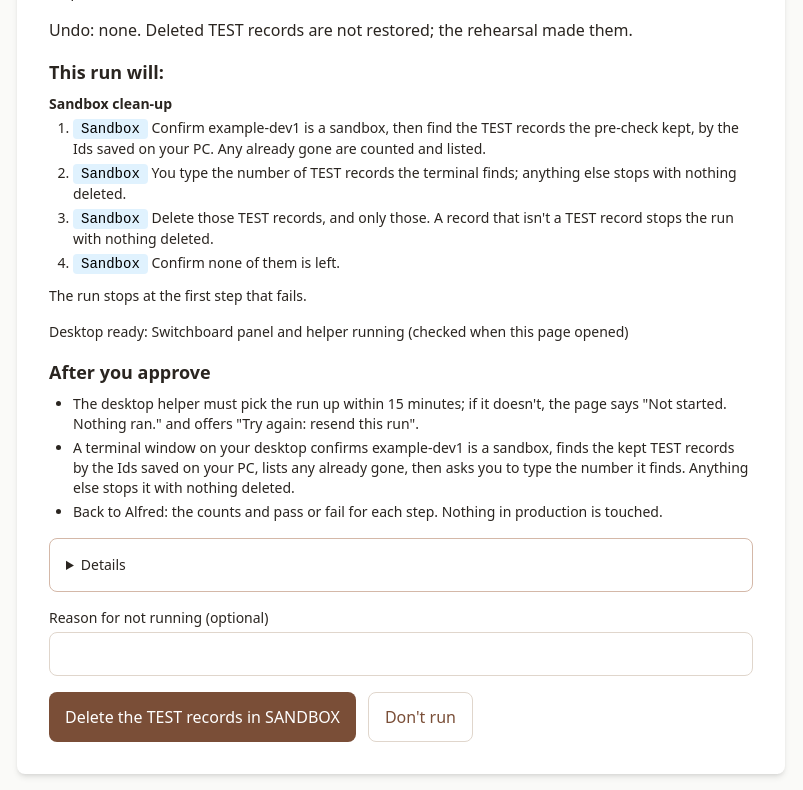
Test case: a pretend page › s34: a pretend delete page: marked pretend, its kind run, and the SIMULATION wake line at Approve
(page scrolled)
Check: the text with test id "run-desktop" does not show "Checking", box [49,322,628,341]
Step 1. Click the button with test id "run-approve" → [202, 717], box [49,692,356,742]
(page scrolled)
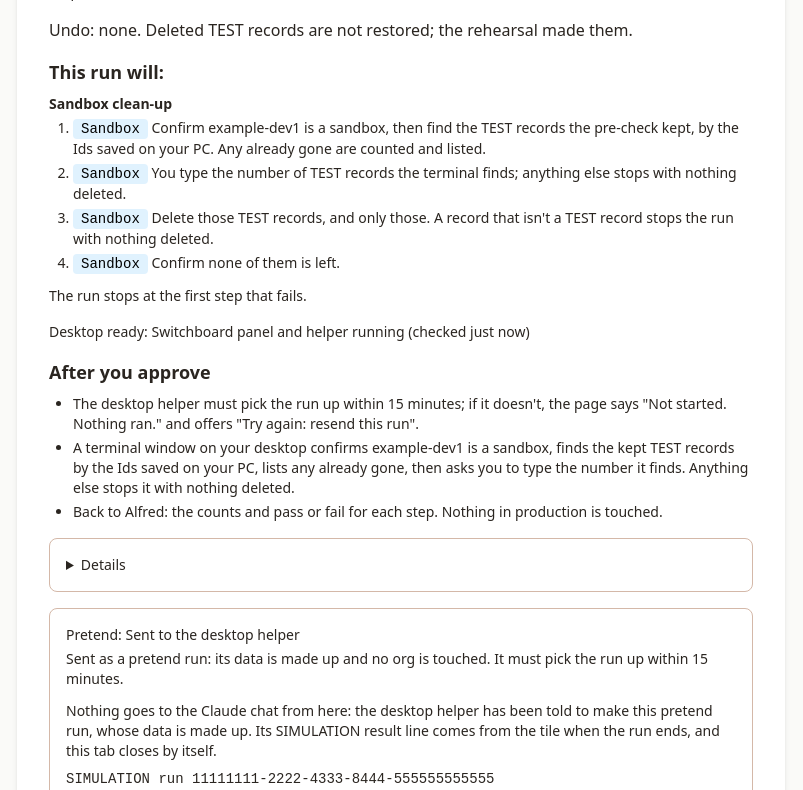
Check: the element with test id "run-result-line" shows "Nothing goes to the Claude chat from here: the desktop helper has been told to make this pretend run, whose data is made up. Its SIMULATION result line comes fr", box [66,701,720,760]
